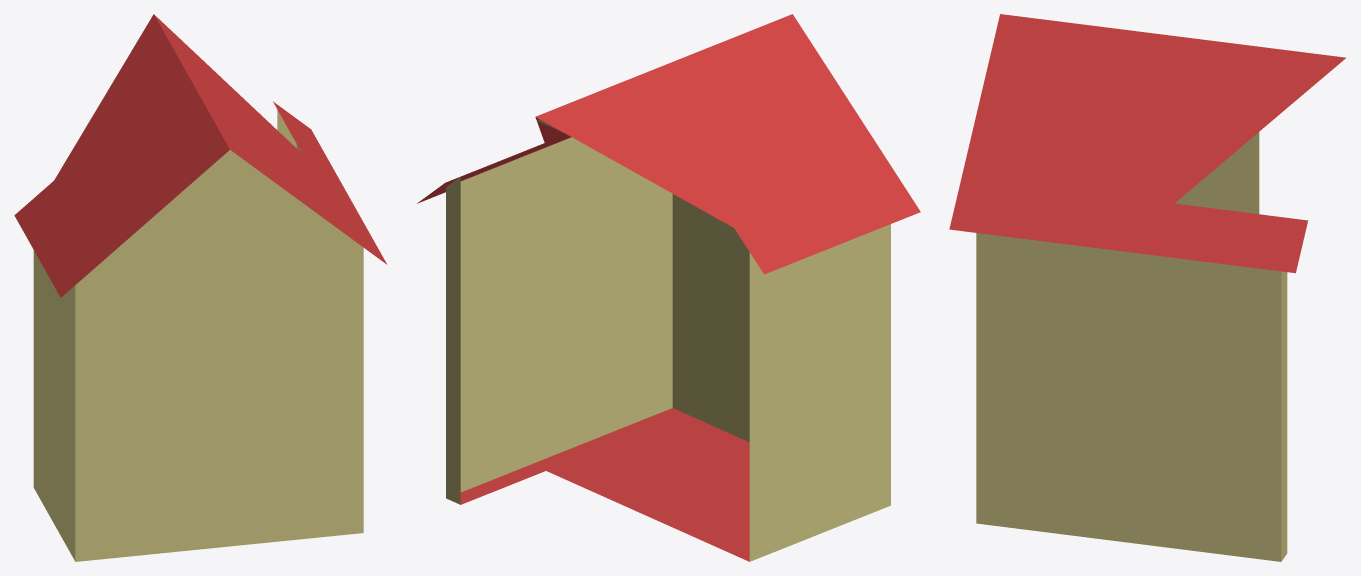
The picture shows the model from 3 angles, left to right: view 1: azimuth 30°, elevation 25°; view 2: azimuth 150°, elevation 25°; view 3: azimuth 270°, elevation 25°; orthographic projection. The views are drawn at different scales.
Bounding box in the file's own units: 10.5 × 9.15 × 11.27.
